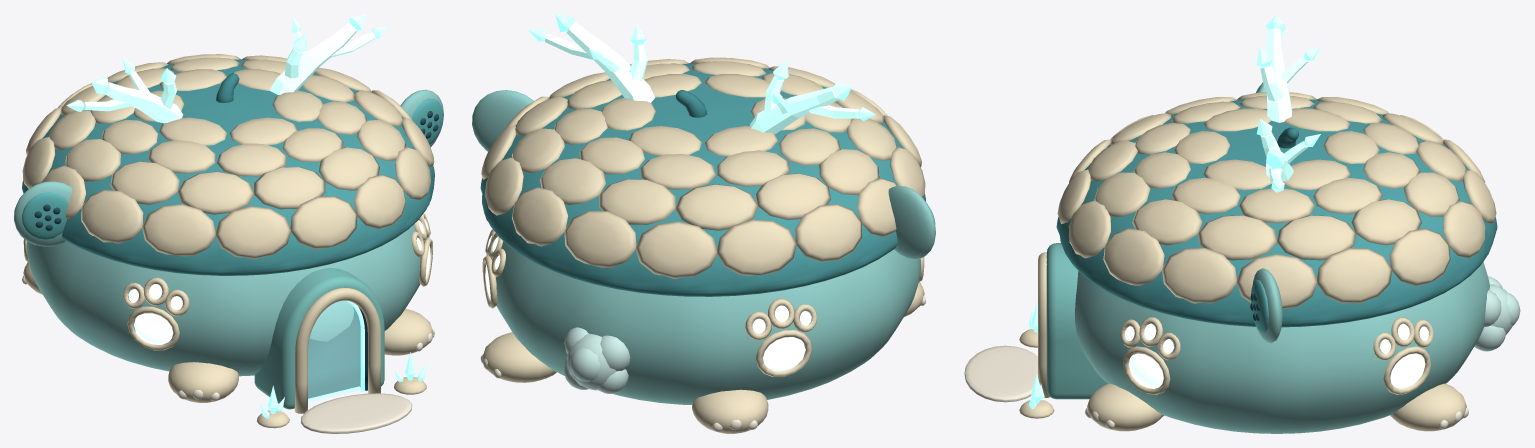
File: house_04_0402.fbx
3 views of the same model, side by side, from view 1: azimuth 30°, elevation 25°; view 2: azimuth 150°, elevation 25°; view 3: azimuth 270°, elevation 25° (orthographic). The views are drawn at different scales.
Parts seen in each view (by area): view 1: House_AcornCap_Scales, House_Body, House_AcornCap, House_Entrance, House_CrystalAntlers, House_GlowMembrane, House_Paws, House_EntranceStep, House_DoorRim, House_PawWindows_Rim, House_EarVent_Inner, House_EarVent_Shell (+7 smaller); view 2: House_AcornCap_Scales, House_Body, House_AcornCap, House_CrystalAntlers, House_Paws, House_EarVent_Shell, House_Tail, House_PawWindows_Rim, House_PawWindows_Glow, House_AntlerGlowTips, House_CapStem; view 3: House_AcornCap_Scales, House_Body, House_AcornCap, House_Entrance, House_Paws, House_PawWindows_Rim, House_EntranceStep, House_CrystalAntlers, House_PawWindows_Glow, House_Tail, House_AntlerGlowTips, House_DoorRim (+3 smaller).
Boxes of the visible parts, x1,y1,x2,y2 form: House_AcornCap_Scales: [22, 54, 434, 259]; House_Body: [26, 224, 429, 376]; House_AcornCap: [22, 59, 434, 275]; House_Entrance: [254, 268, 384, 409]; House_CrystalAntlers: [83, 22, 375, 123]; House_GlowMembrane: [308, 300, 360, 402]; House_Paws: [23, 262, 433, 402]; House_EntranceStep: [301, 393, 412, 433]; House_DoorRim: [294, 287, 380, 413]; House_PawWindows_Rim: [23, 213, 432, 350]; House_EarVent_Inner: [22, 98, 443, 239]; House_EarVent_Shell: [14, 89, 443, 246]; House_AcornCap_Scales: [481, 57, 925, 278]; House_Body: [486, 241, 920, 404]; House_AcornCap: [480, 63, 925, 296]; House_CrystalAntlers: [545, 22, 859, 133]; House_Paws: [482, 282, 924, 433]; House_EarVent_Shell: [472, 90, 935, 259]; House_Tail: [563, 327, 630, 393]; House_PawWindows_Rim: [482, 229, 924, 376]; House_PawWindows_Glow: [485, 235, 811, 371]; House_AntlerGlowTips: [528, 14, 875, 121]; House_CapStem: [676, 90, 707, 117]; House_AcornCap_Scales: [1057, 92, 1496, 308]; House_Body: [1075, 262, 1489, 433]; House_AcornCap: [1056, 99, 1497, 327]; House_Entrance: [1046, 243, 1107, 399]; House_Paws: [1087, 383, 1466, 431]; House_PawWindows_Rim: [1120, 317, 1433, 394]; House_EntranceStep: [964, 345, 1037, 402]; House_CrystalAntlers: [1260, 28, 1307, 183]; House_PawWindows_Glow: [1125, 323, 1428, 388]; House_Tail: [1474, 276, 1520, 351]; House_AntlerGlowTips: [1256, 14, 1320, 192]; House_DoorRim: [1038, 252, 1049, 397].
Size of the model in its own units: 6.38 by 3.94 by 6.76.
